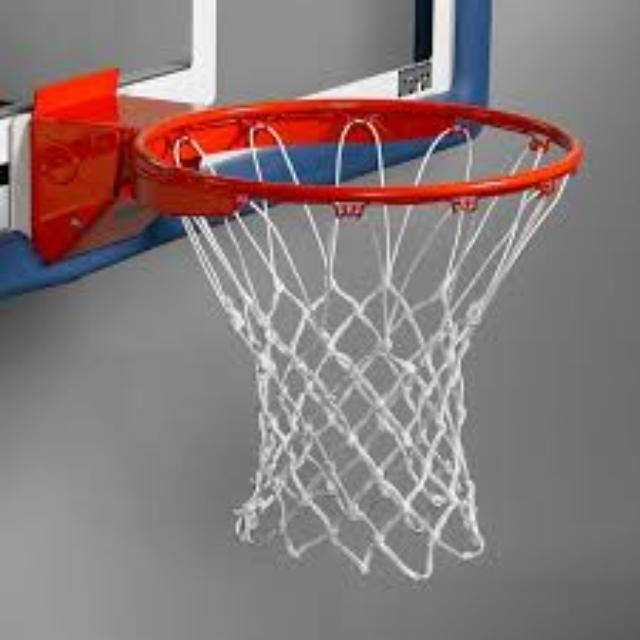rim: (137, 97, 578, 578)
